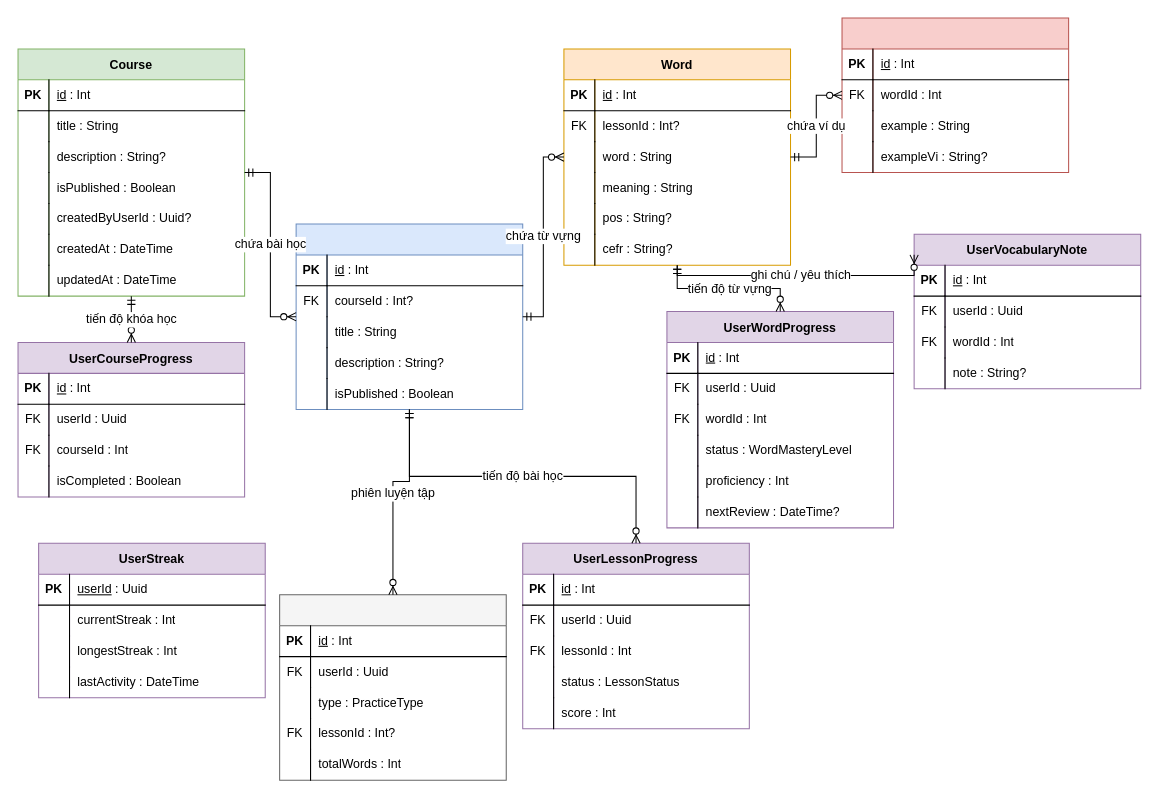
The diagram is 1159 pixels wide and 798 high, and some of its shapes have lost their labels. Each missing label, with the box of its shape:
Lesson: (295, 223, 523, 409)
PracticeSession: (279, 594, 506, 780)
WordExample: (841, 17, 1069, 173)
